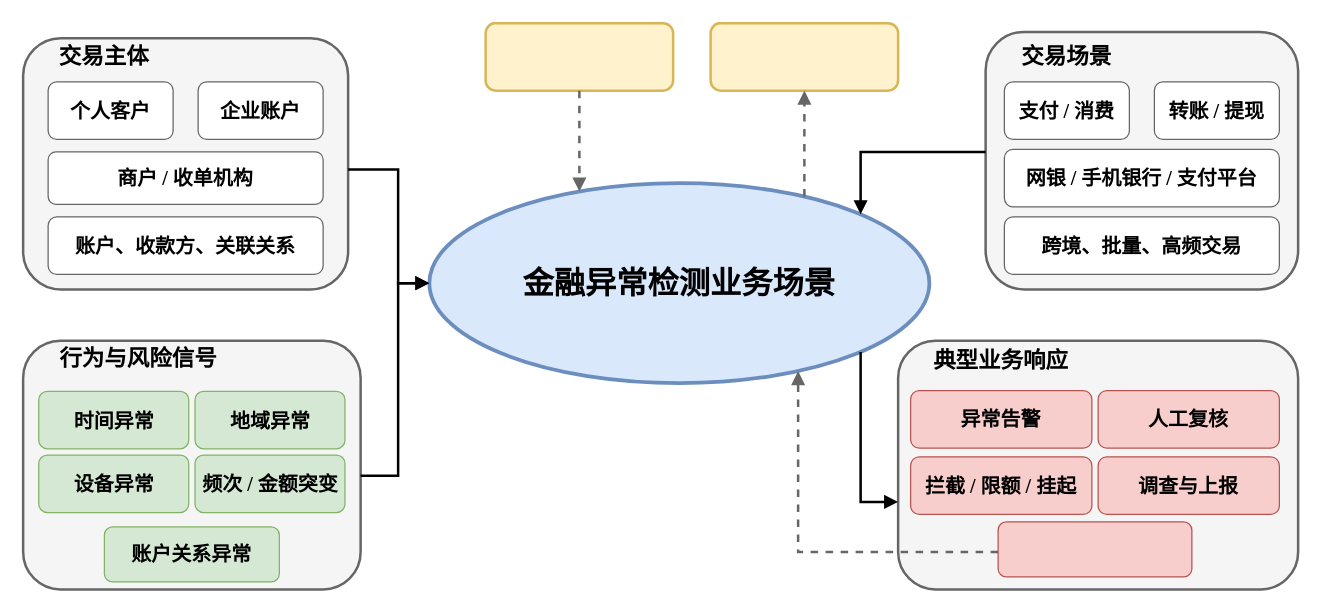
Some shapes in this 1320 by 611 pixel diagram are drawn without their labels. Here are the shapes that lost their labels. From the top down, the centre of each, then its label:
At point (579, 56): "业务数据持续流入".
At point (804, 56): "风险事件持续输出".
At point (1094, 549): "规则优化与模型迭代".
